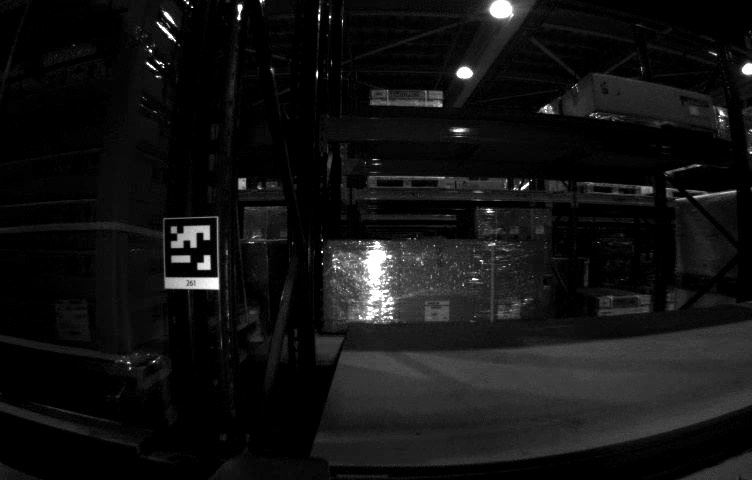True Barcode: (54, 301, 90, 341)
